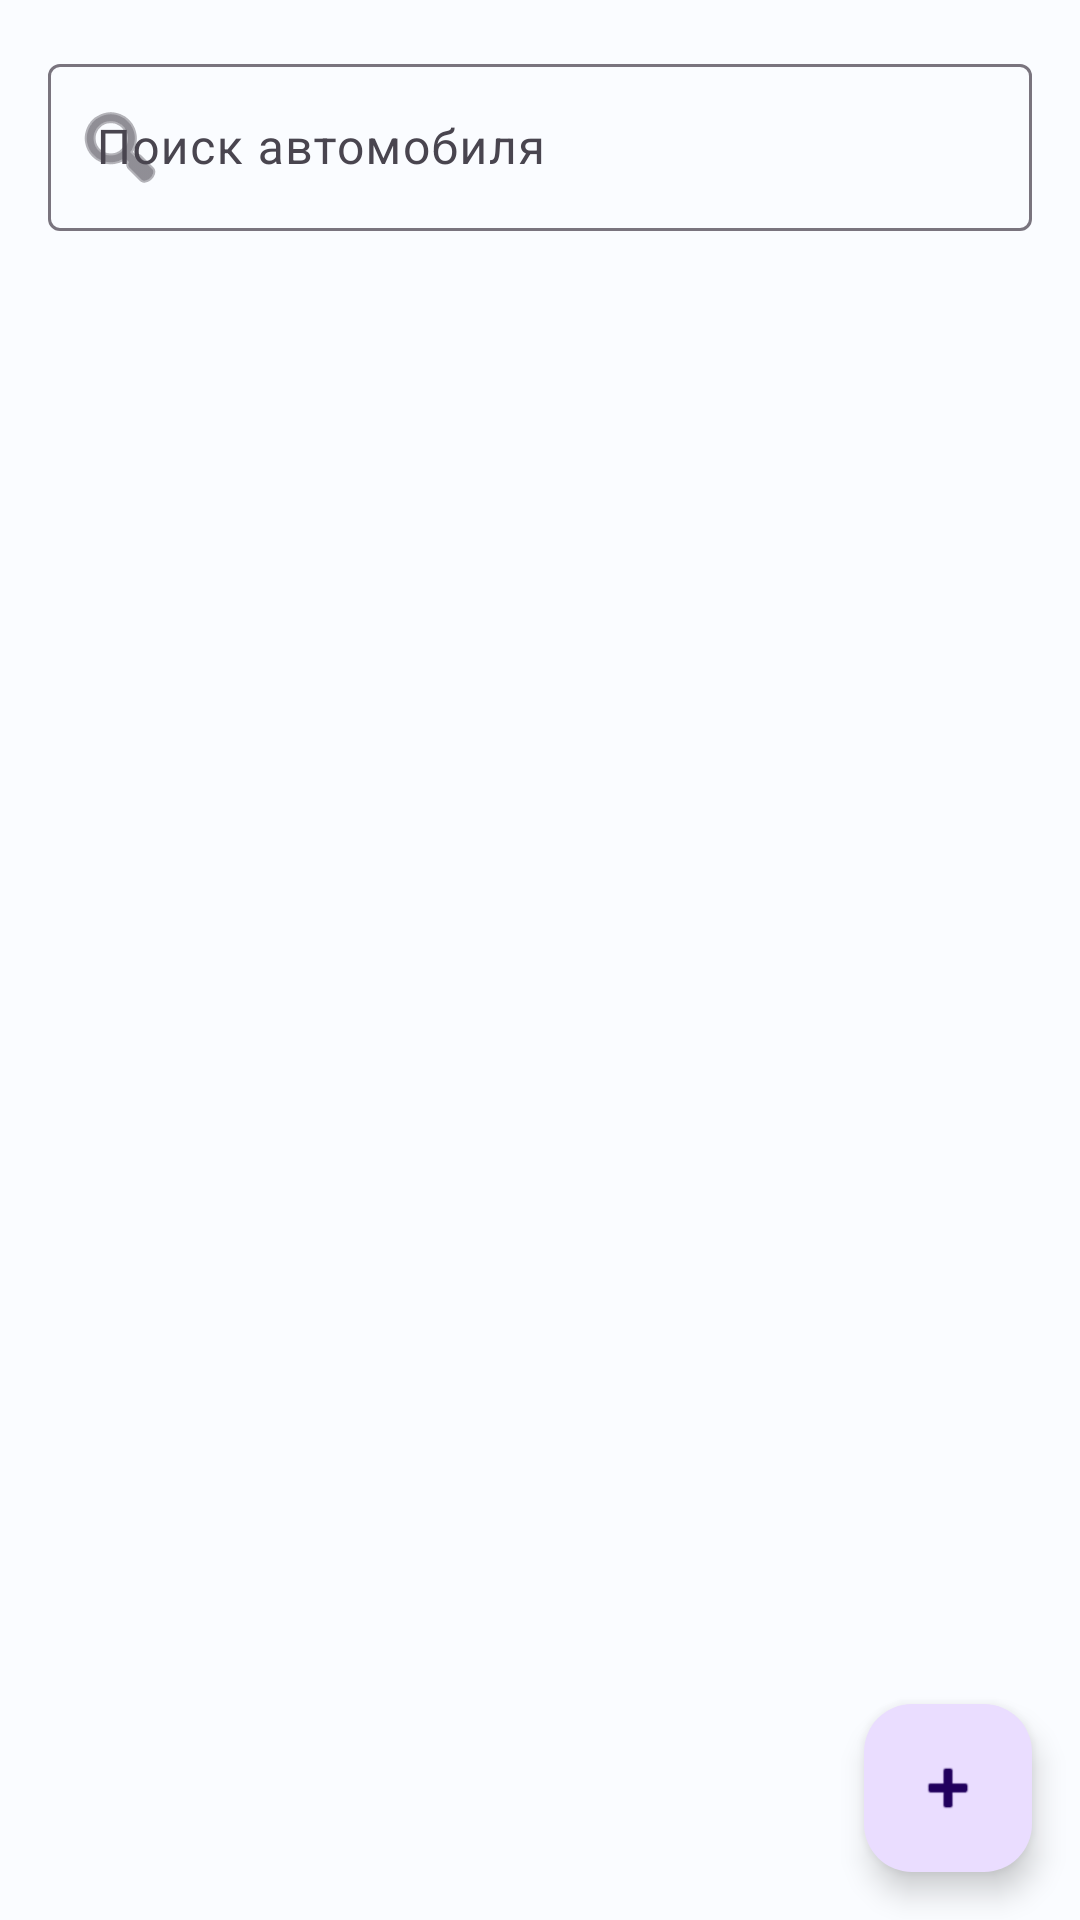

Icons on this 1080x1920 Android screen, each with the point to tap as point (x, y):
Добавить автомобиль: point (948, 1788)
